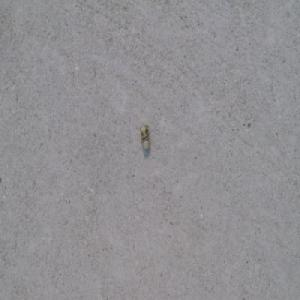BoltNutSet: (139, 123, 150, 150)
